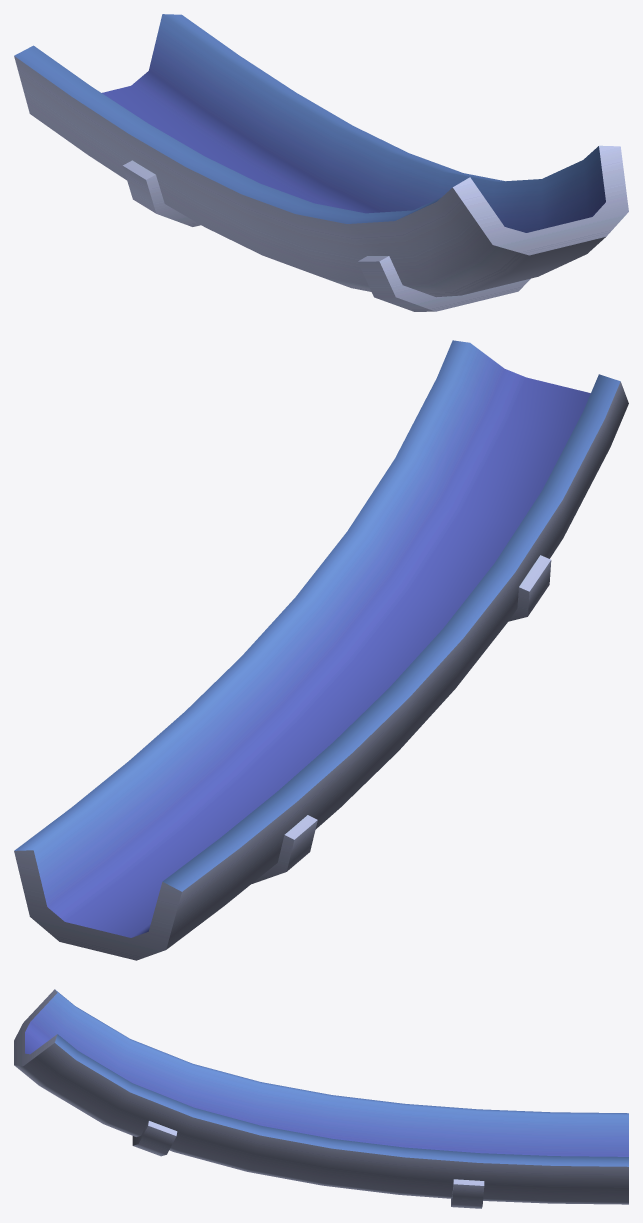
File: coaster-flume-straight-hill-beginning.glb
3 views of the same model, one above another, from view 1: azimuth 30°, elevation 25°; view 2: azimuth 150°, elevation 25°; view 3: azimuth 270°, elevation 25° (orthographic). The views are drawn at different scales.
Parts seen in each view (by area): view 1: coaster-flume-straight-hill-beginning; view 2: coaster-flume-straight-hill-beginning; view 3: coaster-flume-straight-hill-beginning.
Part boxes in pixels (x1,y1,x2,y2): coaster-flume-straight-hill-beginning: (14, 14, 628, 311); coaster-flume-straight-hill-beginning: (14, 340, 628, 960); coaster-flume-straight-hill-beginning: (14, 989, 628, 1208).
Bounding box in the file's own units: 0.8448 × 1.31 × 4.
1 material, 1 textured.
